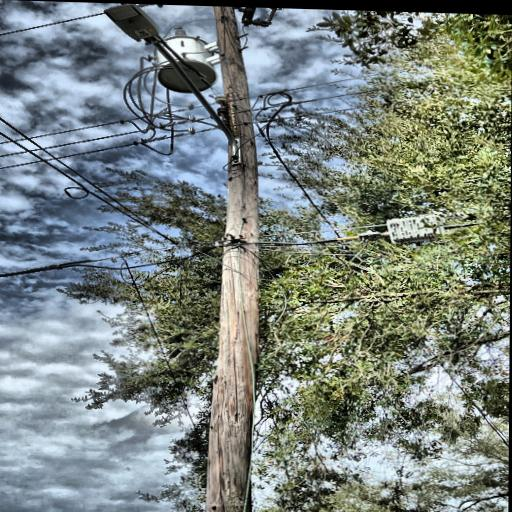pole: (193, 6, 270, 512)
street light: (99, 3, 246, 167)
transformer: (152, 34, 218, 95)
vegetation_encroachment: (91, 205, 511, 242)
